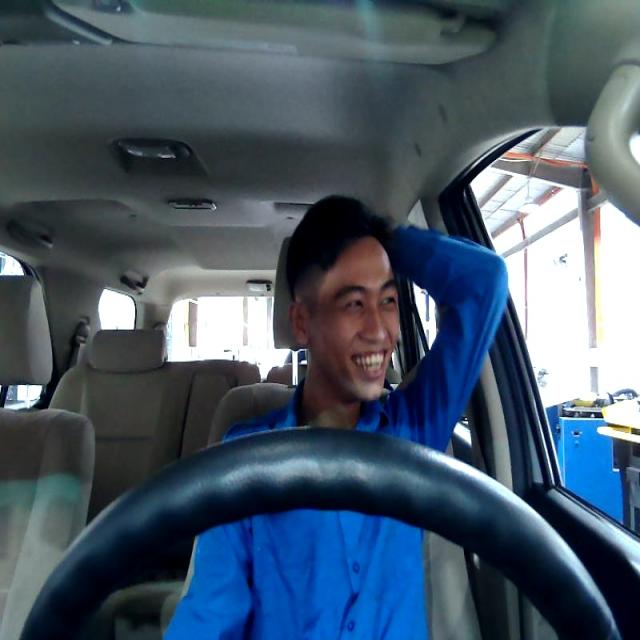focused: (286, 234, 400, 402)
